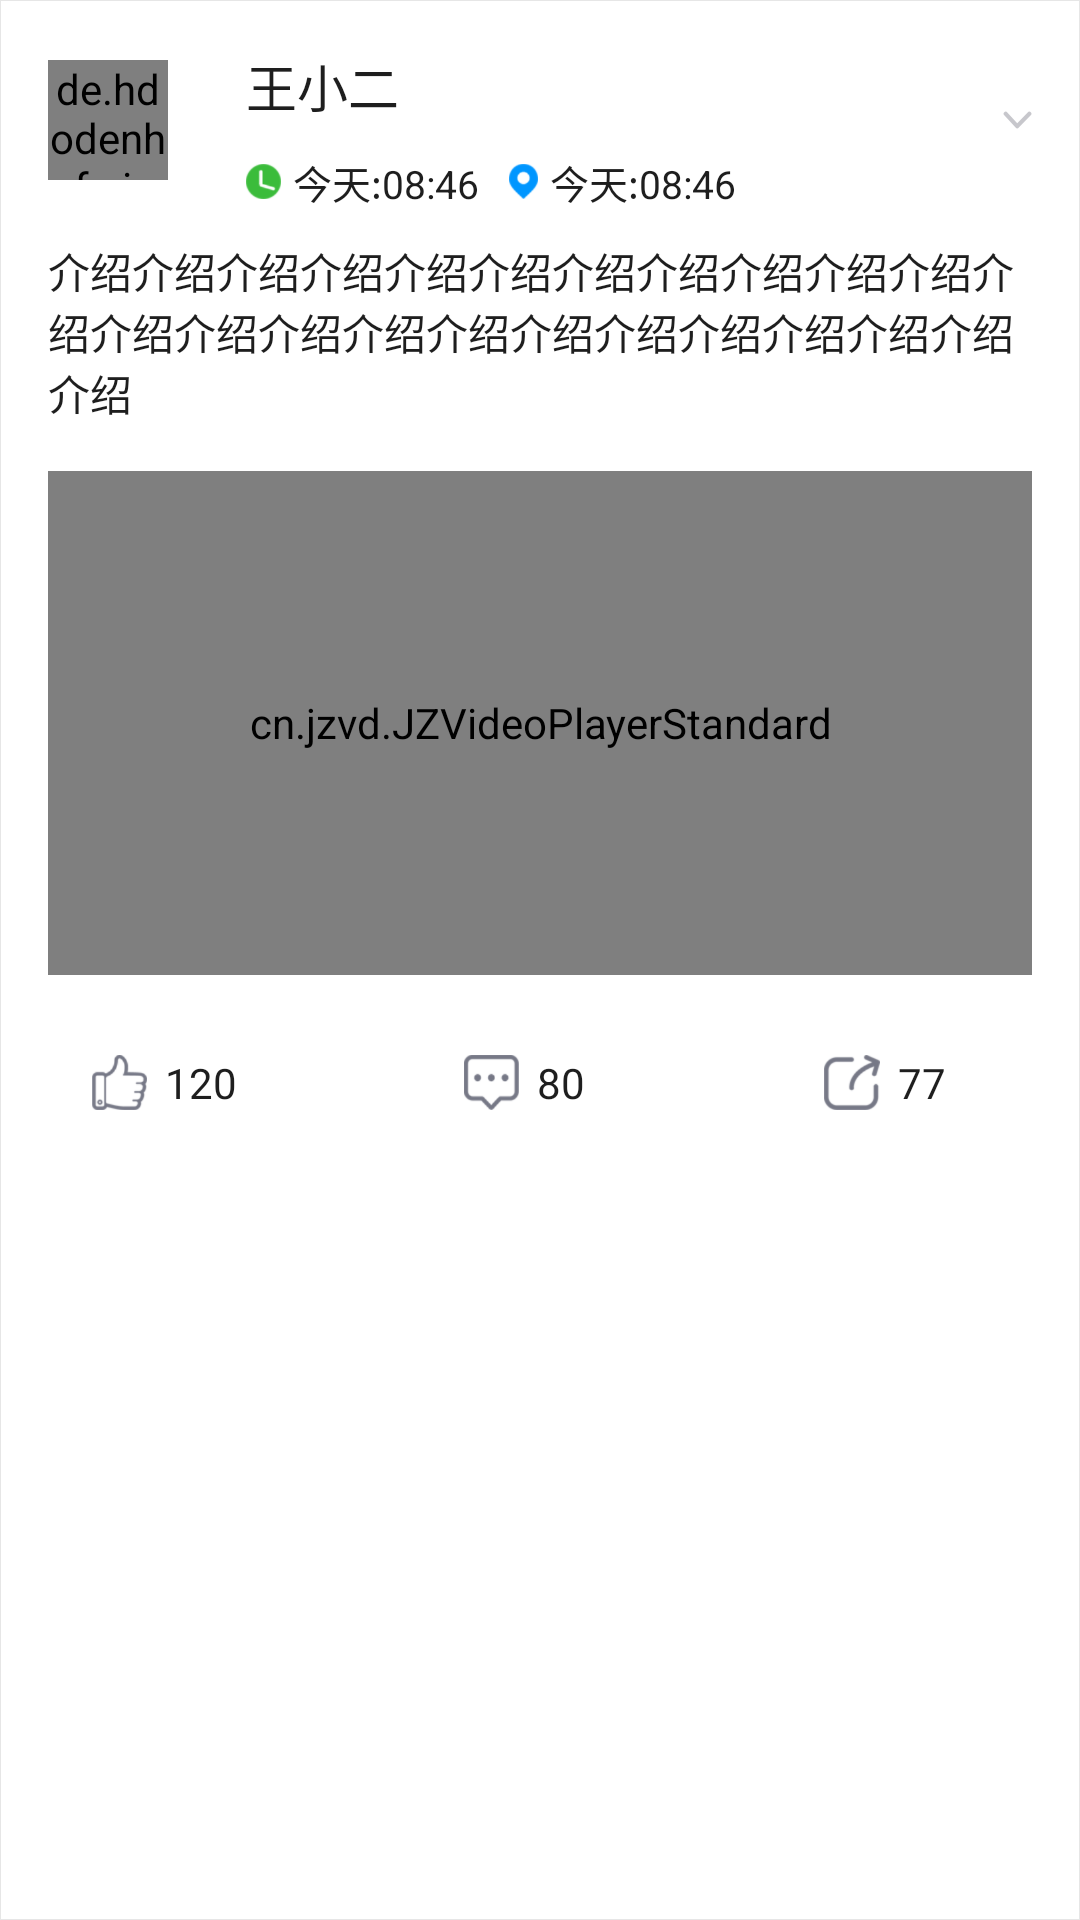

Locate icon controls on the screen. Image size 1080*1920, boxes as (x1=x1, y1=y1, x2=x2, y2=y2).
item down: (x1=1004, y1=112, x2=1031, y2=128)
